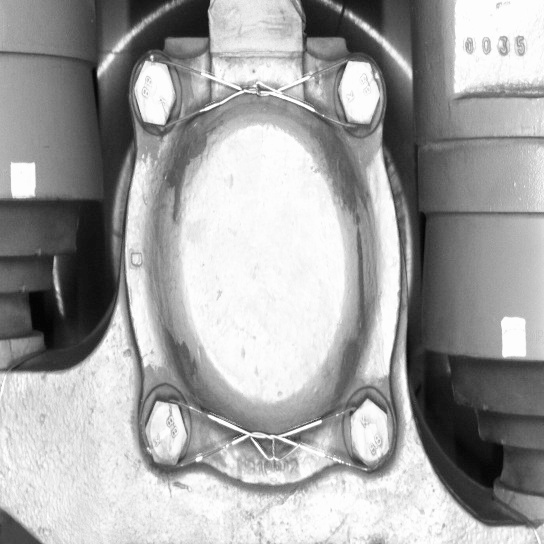IronWire: (120, 48, 389, 137), (137, 387, 400, 475)
Screw: (117, 45, 187, 138), (134, 386, 192, 479), (338, 389, 400, 476), (325, 54, 389, 134)
